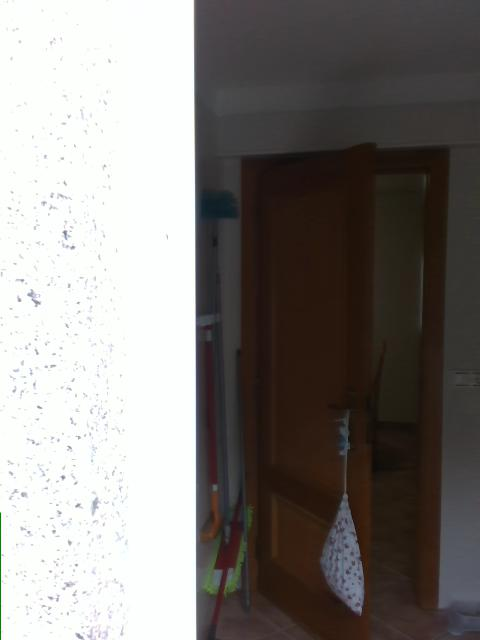semi_door: (234, 140, 449, 639)
